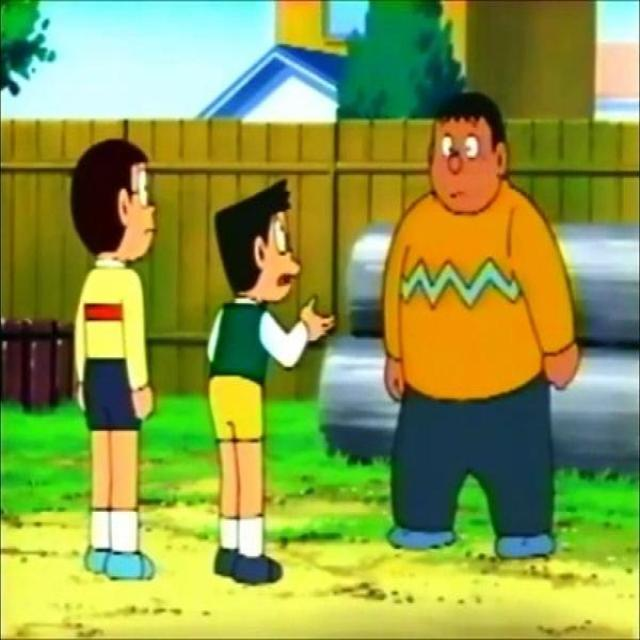jaian: (424, 88, 510, 216)
nobita: (67, 140, 160, 270)
suneo: (209, 175, 305, 317)
